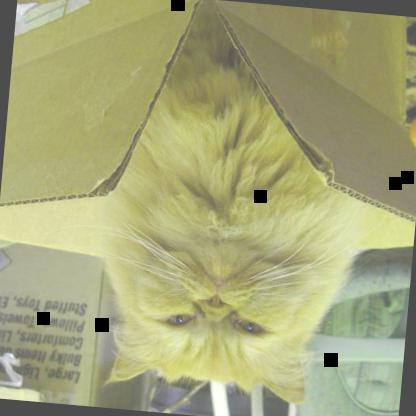cat: (86, 0, 380, 410)
